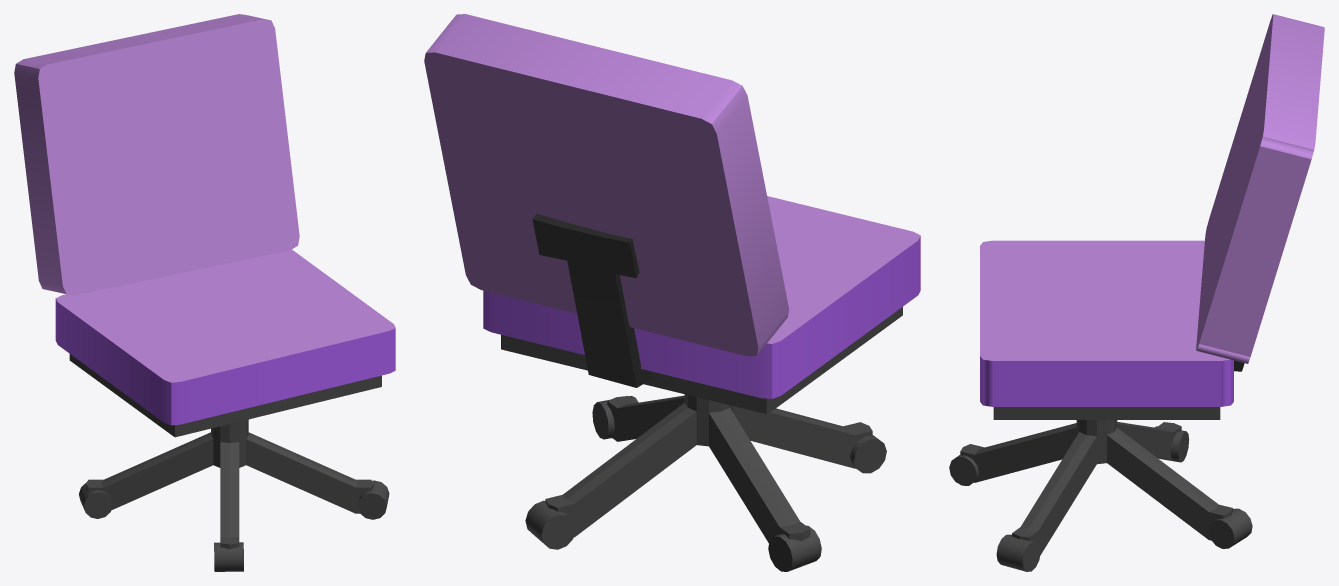
The model's file is Office_Chair.fbx.
The picture shows the model from 3 angles, left to right: view 1: azimuth 30°, elevation 25°; view 2: azimuth 150°, elevation 25°; view 3: azimuth 270°, elevation 25°; orthographic projection. The views are drawn at different scales.
Parts seen in each view (by area): view 1: Office_Chair; view 2: Office_Chair; view 3: Office_Chair.
Part boxes in pixels (x1,y1,x2,y2): Office_Chair: [14, 14, 395, 571]; Office_Chair: [424, 14, 920, 571]; Office_Chair: [949, 14, 1324, 571].
Bounding box in the file's own units: 76.44 × 125 × 95.71.
